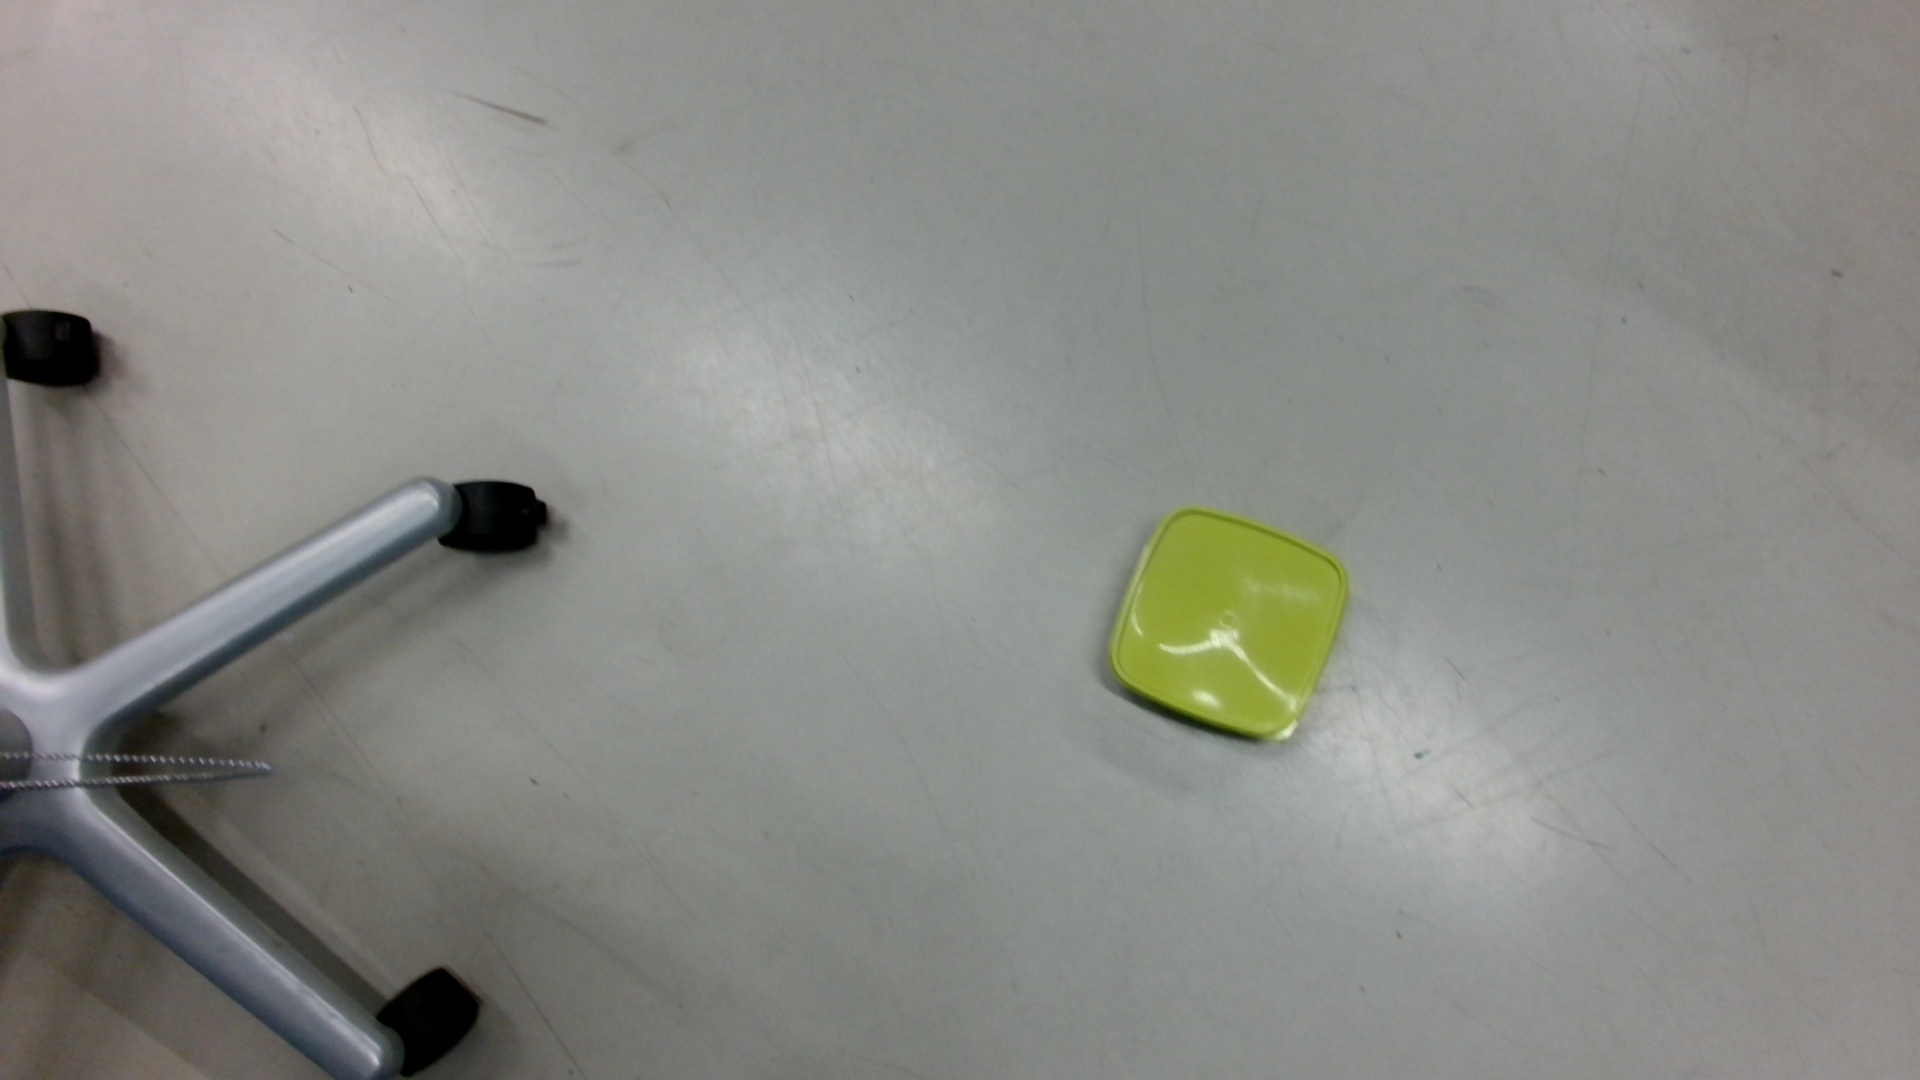Box: (1102, 501, 1353, 750)
